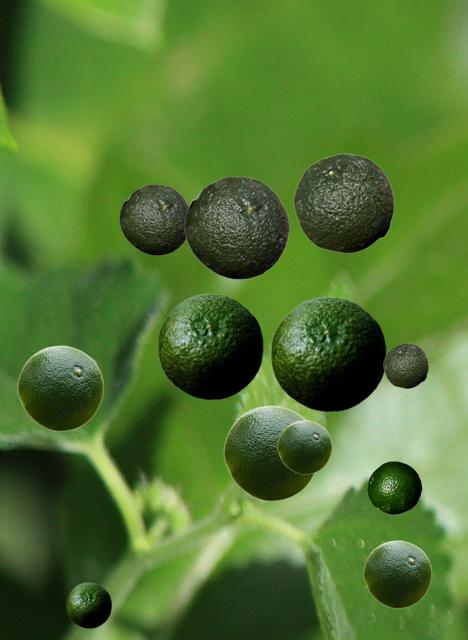calamansi: (270, 296, 385, 411), (157, 293, 262, 399), (184, 176, 289, 278), (293, 153, 393, 252), (223, 405, 315, 500), (17, 345, 103, 430), (119, 184, 188, 254), (363, 540, 431, 607), (277, 420, 331, 473), (367, 461, 421, 513), (66, 582, 110, 627), (383, 343, 427, 387)
